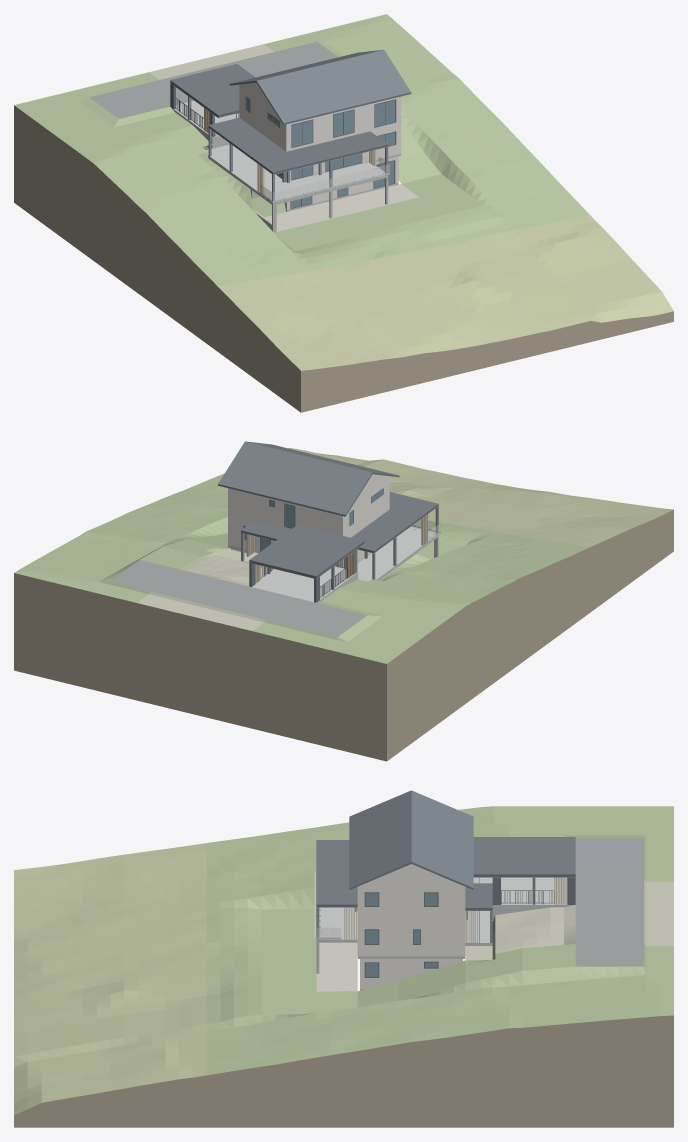
File: Schaffernak_Haus_B.glb
3 views of the same model, one above another, from view 1: azimuth 30°, elevation 25°; view 2: azimuth 150°, elevation 25°; view 3: azimuth 270°, elevation 25° (orthographic). The views are drawn at different scales.
Parts seen in each view (by area): view 1: Foto_Gelaende_Rasen_Boeschung, Foto_Gelaende_Hang_unten, Foto_Gelaende_Modellrand, Satteldach_0, Strasse_parallel_zum_Haus_schematisch, Foto_Gelaende_Kies_Kellerbereich, Entwurf_Dach_vorne, Carport_Dach, Balkon_vorne, Foto_Gelaende_Seitliche_Gruenflaeche, Entwurf_Dach_links, Foto_Gelaende_Rueckseite (+3 smaller); view 2: Foto_Gelaende_Modellrand, Foto_Gelaende_Rasen_Boeschung, Foto_Gelaende_Hang_unten, Strasse_parallel_zum_Haus_schematisch, Satteldach_1, Foto_Gelaende_Rueckseite, Carport_Dach, Foto_Gelaende_Seitliche_Gruenflaeche, Carport_Boden, Entwurf_Dach_links, Balkon_links, OG_back_Wand4 (+5 smaller); view 3: Foto_Gelaende_Rasen_Boeschung, Foto_Gelaende_Modellrand, Foto_Gelaende_Hang_unten, Strasse_parallel_zum_Haus_schematisch, Foto_Gelaende_Rueckseite, Foto_Gelaende_Seitliche_Gruenflaeche, Satteldach_0, Satteldach_1, Carport_Dach, Entwurf_Dach_vorne, Foto_Gelaende_Kies_Kellerbereich, Carport_Boden (+9 smaller).
Part boxes in pixels (left/top/right/bottom): Foto_Gelaende_Rasen_Boeschung: left=14, top=14, right=589, bottom=285; Foto_Gelaende_Hang_unten: left=217, top=215, right=673, bottom=370; Foto_Gelaende_Modellrand: left=14, top=105, right=673, bottom=412; Satteldach_0: left=256, top=50, right=411, bottom=124; Strasse_parallel_zum_Haus_schematisch: left=89, top=41, right=337, bottom=118; Foto_Gelaende_Kies_Kellerbereich: left=265, top=184, right=418, bottom=231; Entwurf_Dach_vorne: left=255, top=131, right=388, bottom=174; Carport_Dach: left=171, top=64, right=254, bottom=114; Balkon_vorne: left=255, top=162, right=388, bottom=205; Foto_Gelaende_Seitliche_Gruenflaeche: left=264, top=34, right=440, bottom=183; Entwurf_Dach_links: left=208, top=117, right=285, bottom=160; Foto_Gelaende_Rueckseite: left=149, top=44, right=273, bottom=79; Foto_Gelaende_Modellrand: left=14, top=509, right=673, bottom=761; Foto_Gelaende_Rasen_Boeschung: left=14, top=476, right=589, bottom=663; Foto_Gelaende_Hang_unten: left=218, top=447, right=673, bottom=546; Strasse_parallel_zum_Haus_schematisch: left=110, top=560, right=366, bottom=636; Satteldach_1: left=218, top=441, right=372, bottom=516; Foto_Gelaende_Rueckseite: left=137, top=549, right=272, bottom=630; Carport_Dach: left=250, top=525, right=363, bottom=575; Foto_Gelaende_Seitliche_Gruenflaeche: left=97, top=533, right=229, bottom=602; Carport_Boden: left=252, top=569, right=352, bottom=602; Entwurf_Dach_links: left=351, top=509, right=420, bottom=552; Balkon_links: left=357, top=540, right=420, bottom=580; OG_back_Wand4: left=228, top=488, right=268, bottom=522; Foto_Gelaende_Rasen_Boeschung: left=206, top=806, right=673, bottom=1075; Foto_Gelaende_Modellrand: left=14, top=1015, right=673, bottom=1127; Foto_Gelaende_Hang_unten: left=14, top=843, right=206, bottom=1115; Strasse_parallel_zum_Haus_schematisch: left=575, top=838, right=644, bottom=966; Foto_Gelaende_Rueckseite: left=465, top=879, right=673, bottom=960; Foto_Gelaende_Seitliche_Gruenflaeche: left=357, top=944, right=673, bottom=1007; Satteldach_0: left=349, top=790, right=411, bottom=889; Satteldach_1: left=411, top=790, right=473, bottom=889; Carport_Dach: left=473, top=837, right=575, bottom=874; Entwurf_Dach_vorne: left=316, top=840, right=357, bottom=907; Foto_Gelaende_Kies_Kellerbereich: left=316, top=942, right=357, bottom=991; Carport_Boden: left=492, top=877, right=573, bottom=906.
Bounding box in the file's own units: 36 × 16.06 × 48.
